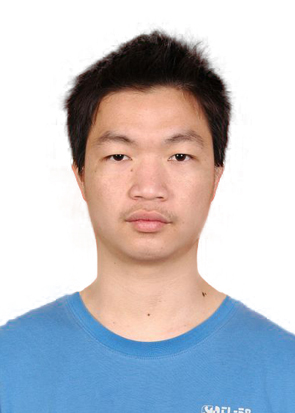unmask: (88, 97, 212, 254)
